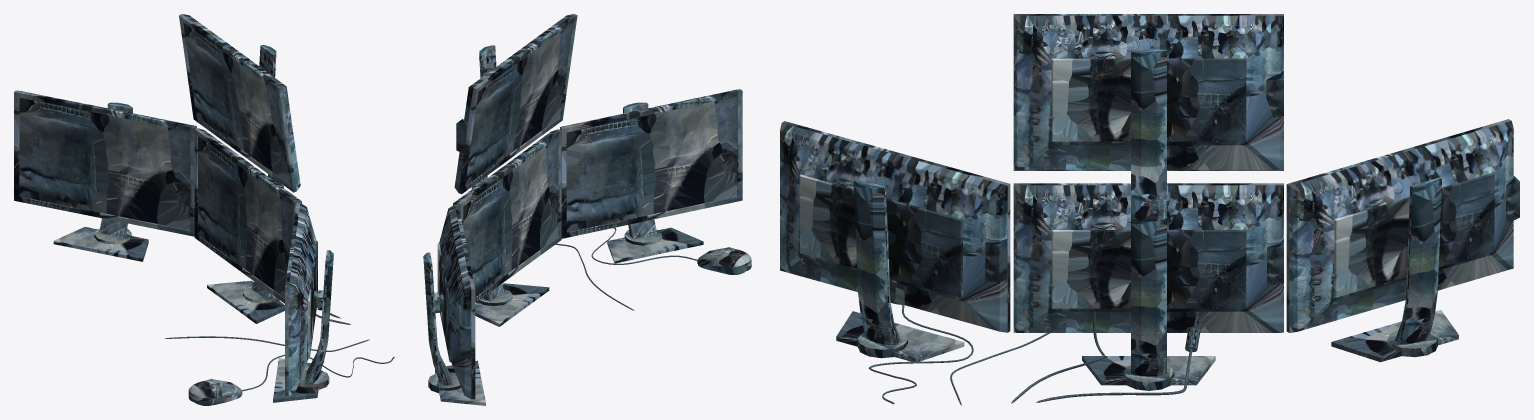
The model's file is futuristic_room_23.obj.
The picture shows the model from 3 angles, left to right: view 1: azimuth 30°, elevation 25°; view 2: azimuth 150°, elevation 25°; view 3: azimuth 270°, elevation 25°; orthographic projection. The views are drawn at different scales.
Bounding box in the file's own units: 0.6504 × 0.7861 × 1.53.
